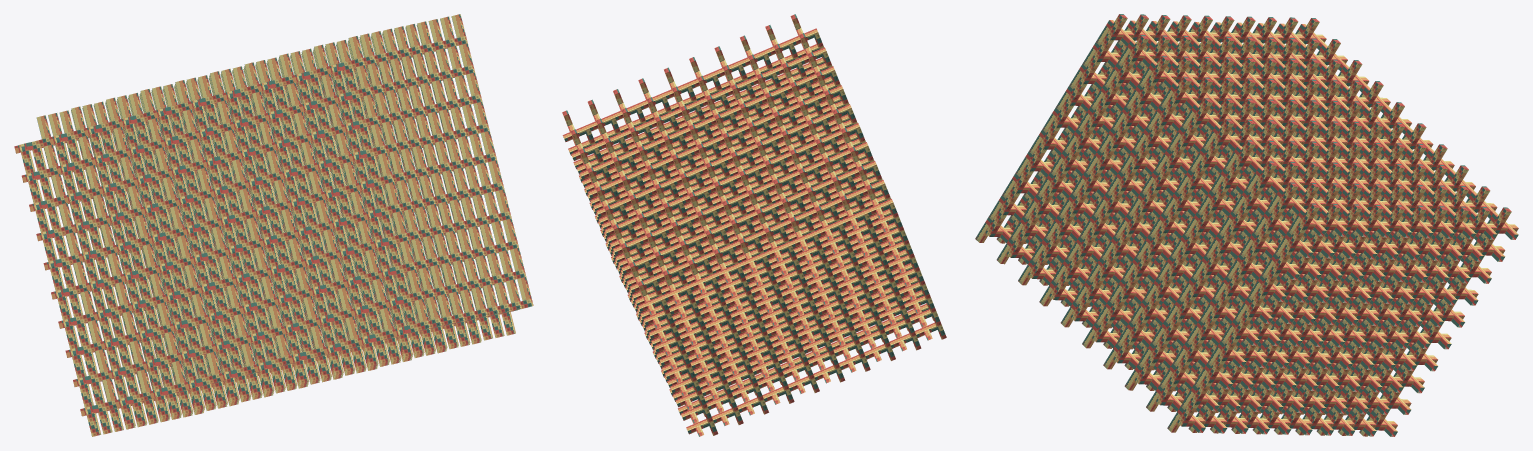
Rendered from tesseract_color_v03.glb.
The picture shows the model from 3 angles, left to right: view 1: azimuth 30°, elevation 25°; view 2: azimuth 150°, elevation 25°; view 3: azimuth 270°, elevation 25°; orthographic projection. The views are drawn at different scales.
Visible parts, largest first — view 1: MASH3_ReproMesh2; view 2: MASH3_ReproMesh2; view 3: MASH3_ReproMesh2.
Boxes of the visible parts, x1=… form: MASH3_ReproMesh2: x1=14, y1=14, x2=533, y2=436; MASH3_ReproMesh2: x1=562, y1=14, x2=946, y2=436; MASH3_ReproMesh2: x1=975, y1=14, x2=1518, y2=436.
Size of the model in its own units: 686 by 692 by 788.
1 material, 1 textured.
